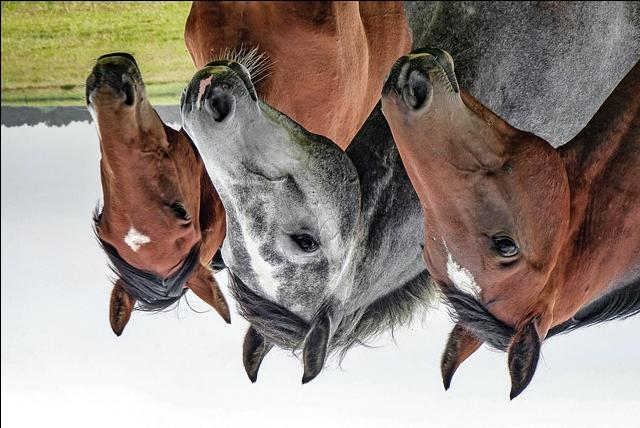Non_Gorille: (52, 13, 629, 411)
